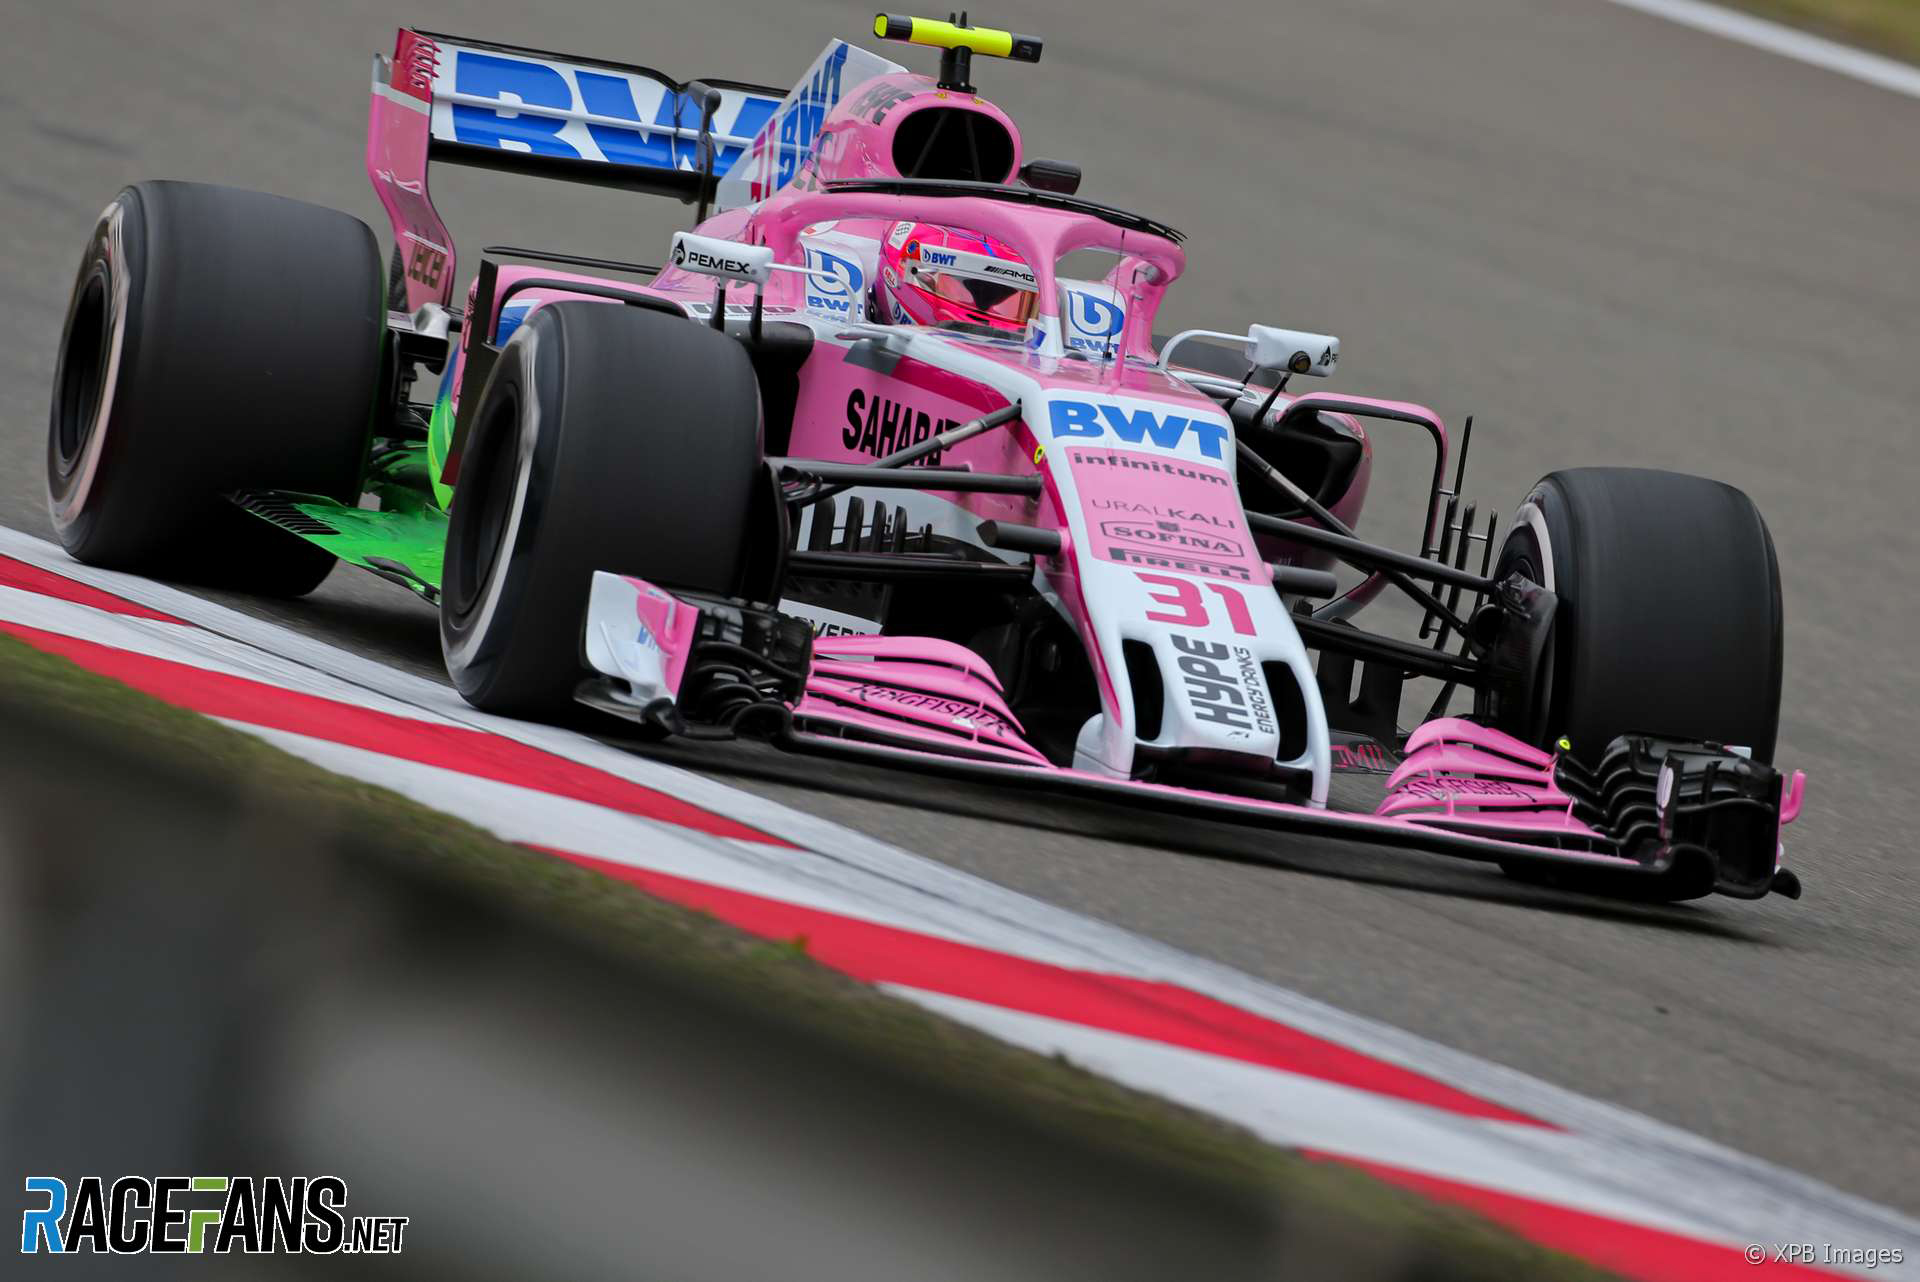F1 Car: (26, 10, 1828, 950)
